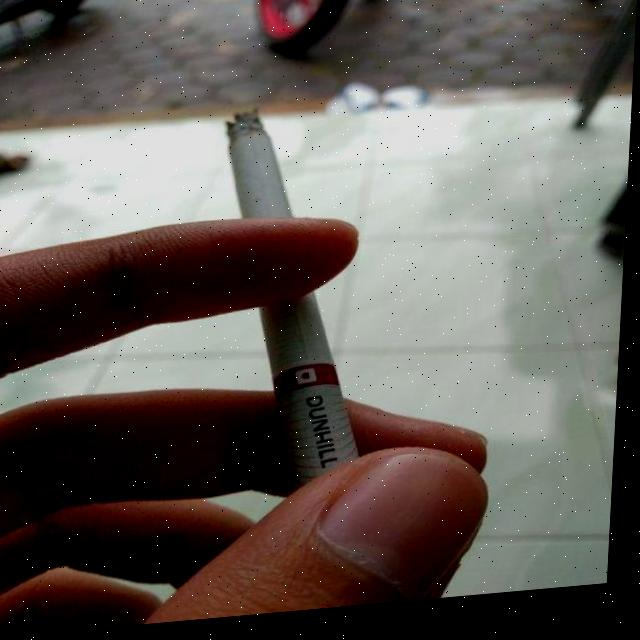cigarette: (213, 106, 377, 483)
